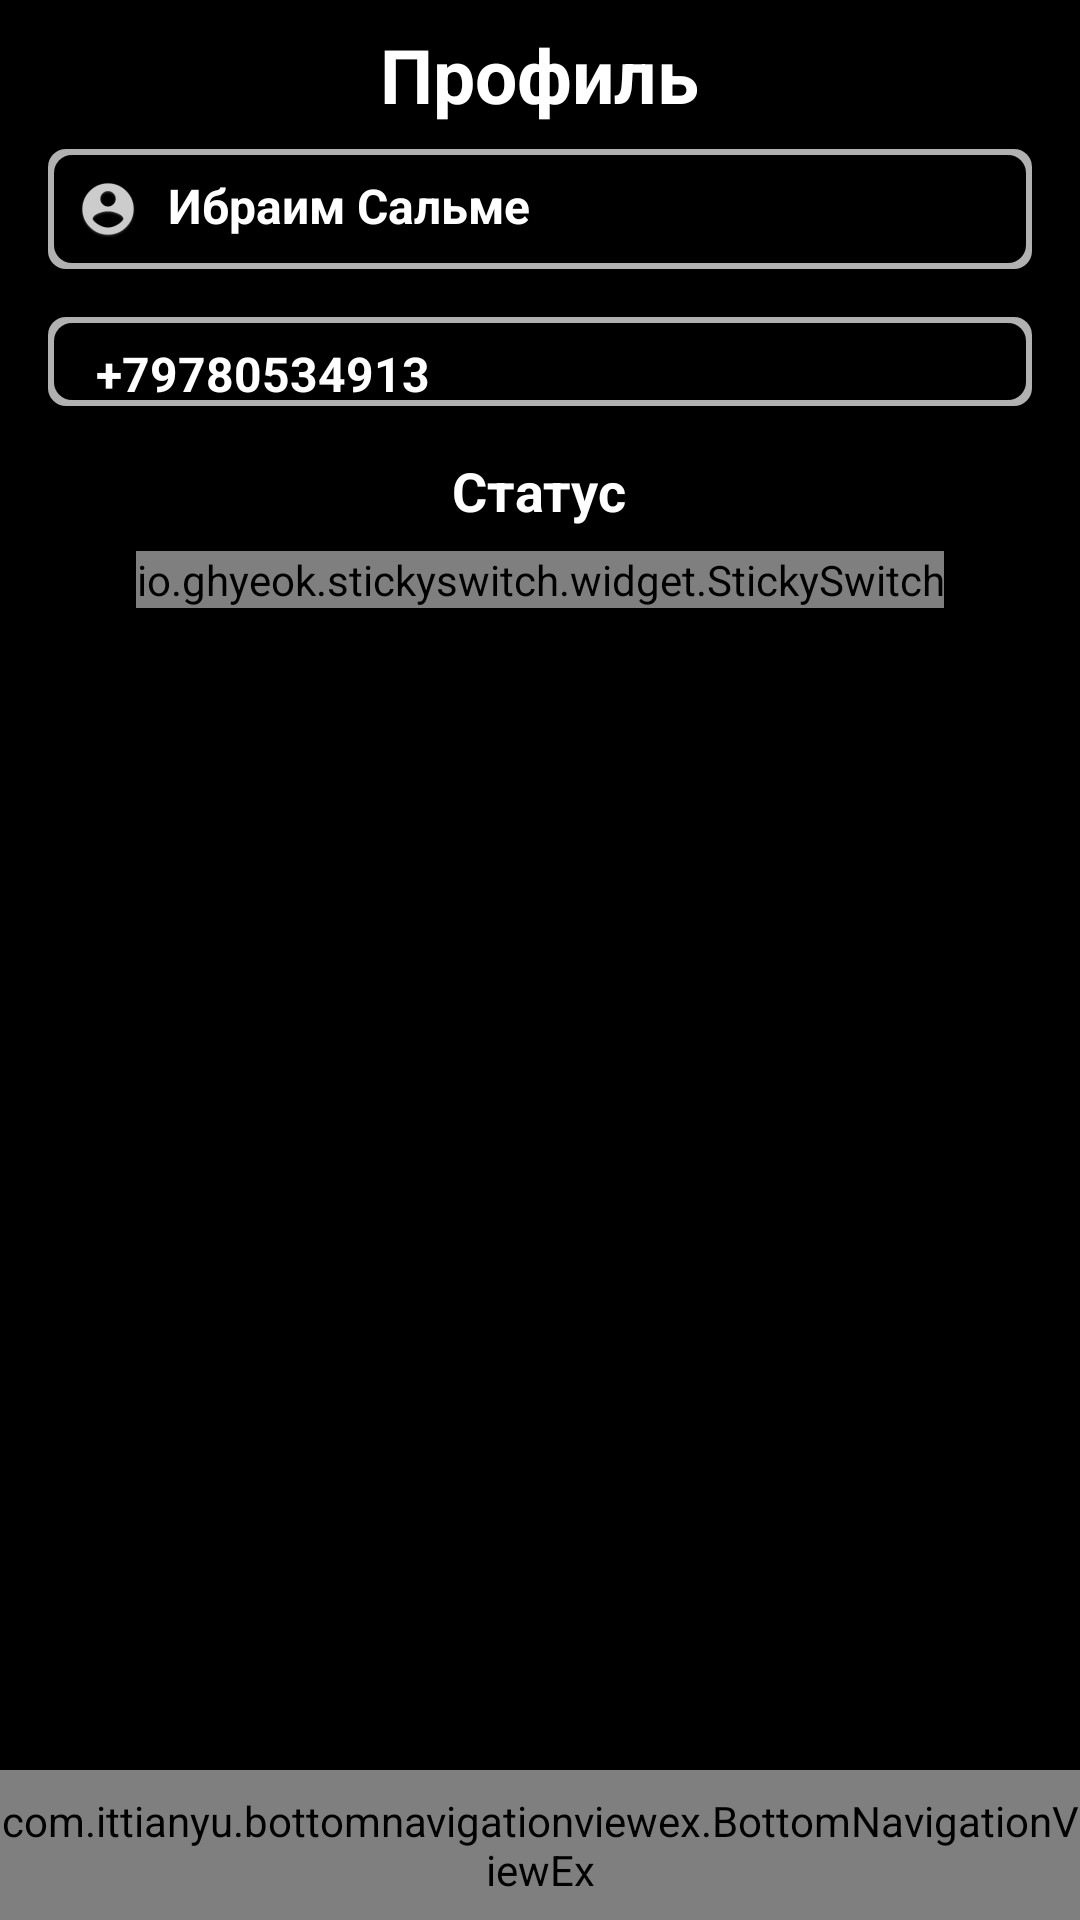

Icons on this 1080w x 1920h Android screen, each with the point to tap as (x,y):
profil: (108,209)
